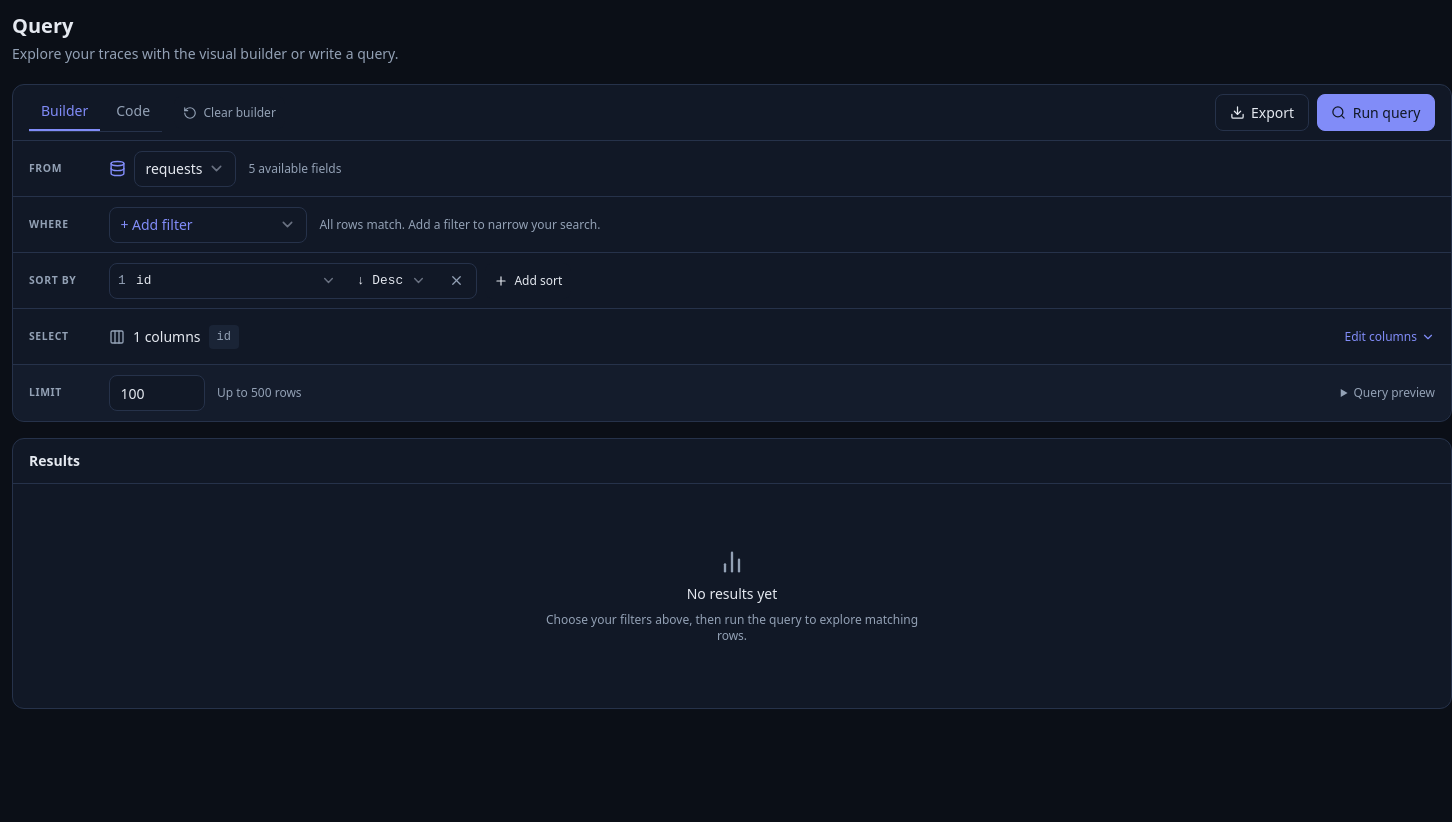
Test case: blocks invalid row limit  before sending the query
Expected: the tab "Builder" is shown, x1=29 y1=93 x2=100 y2=131
Clear the number field labelled "Limit" at (157, 393), box x1=109 y1=375 x2=205 y2=411
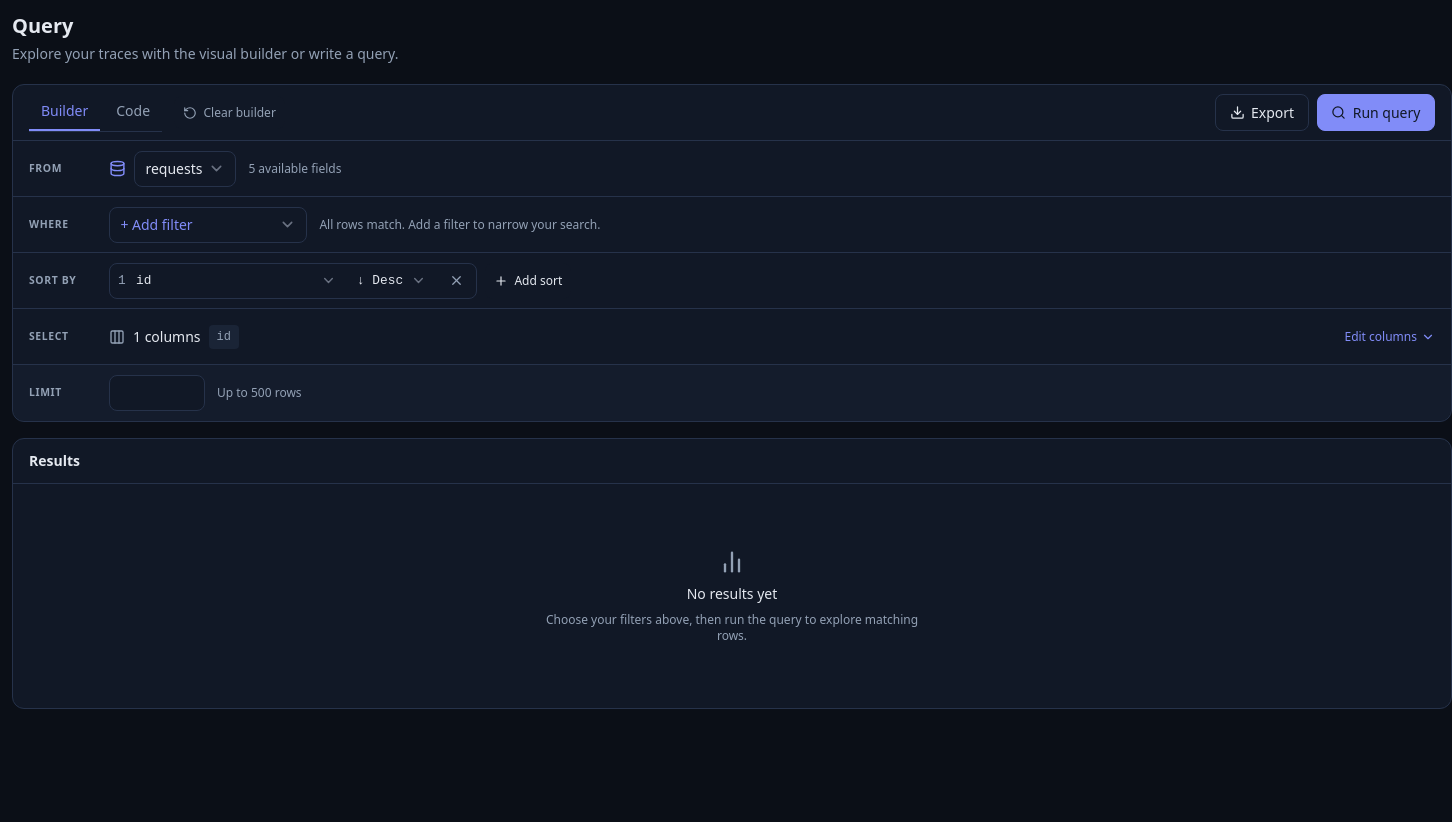
Click the button "Run query" at (1376, 112), box x1=1317 y1=94 x2=1435 y2=131
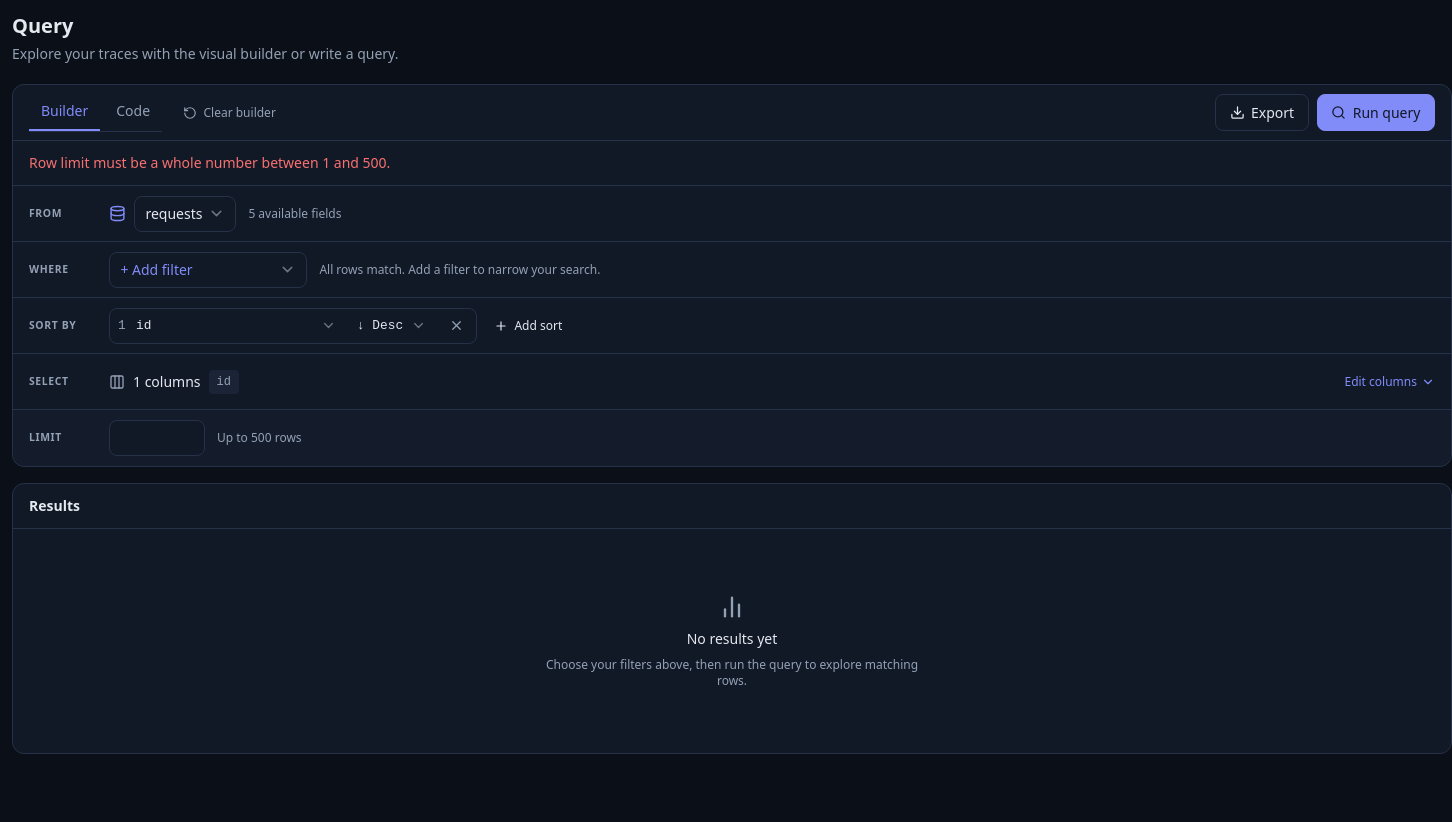
Expected: the message "Row limit must be a whole number between 1 and 500." is shown, x1=13 y1=141 x2=1451 y2=186
